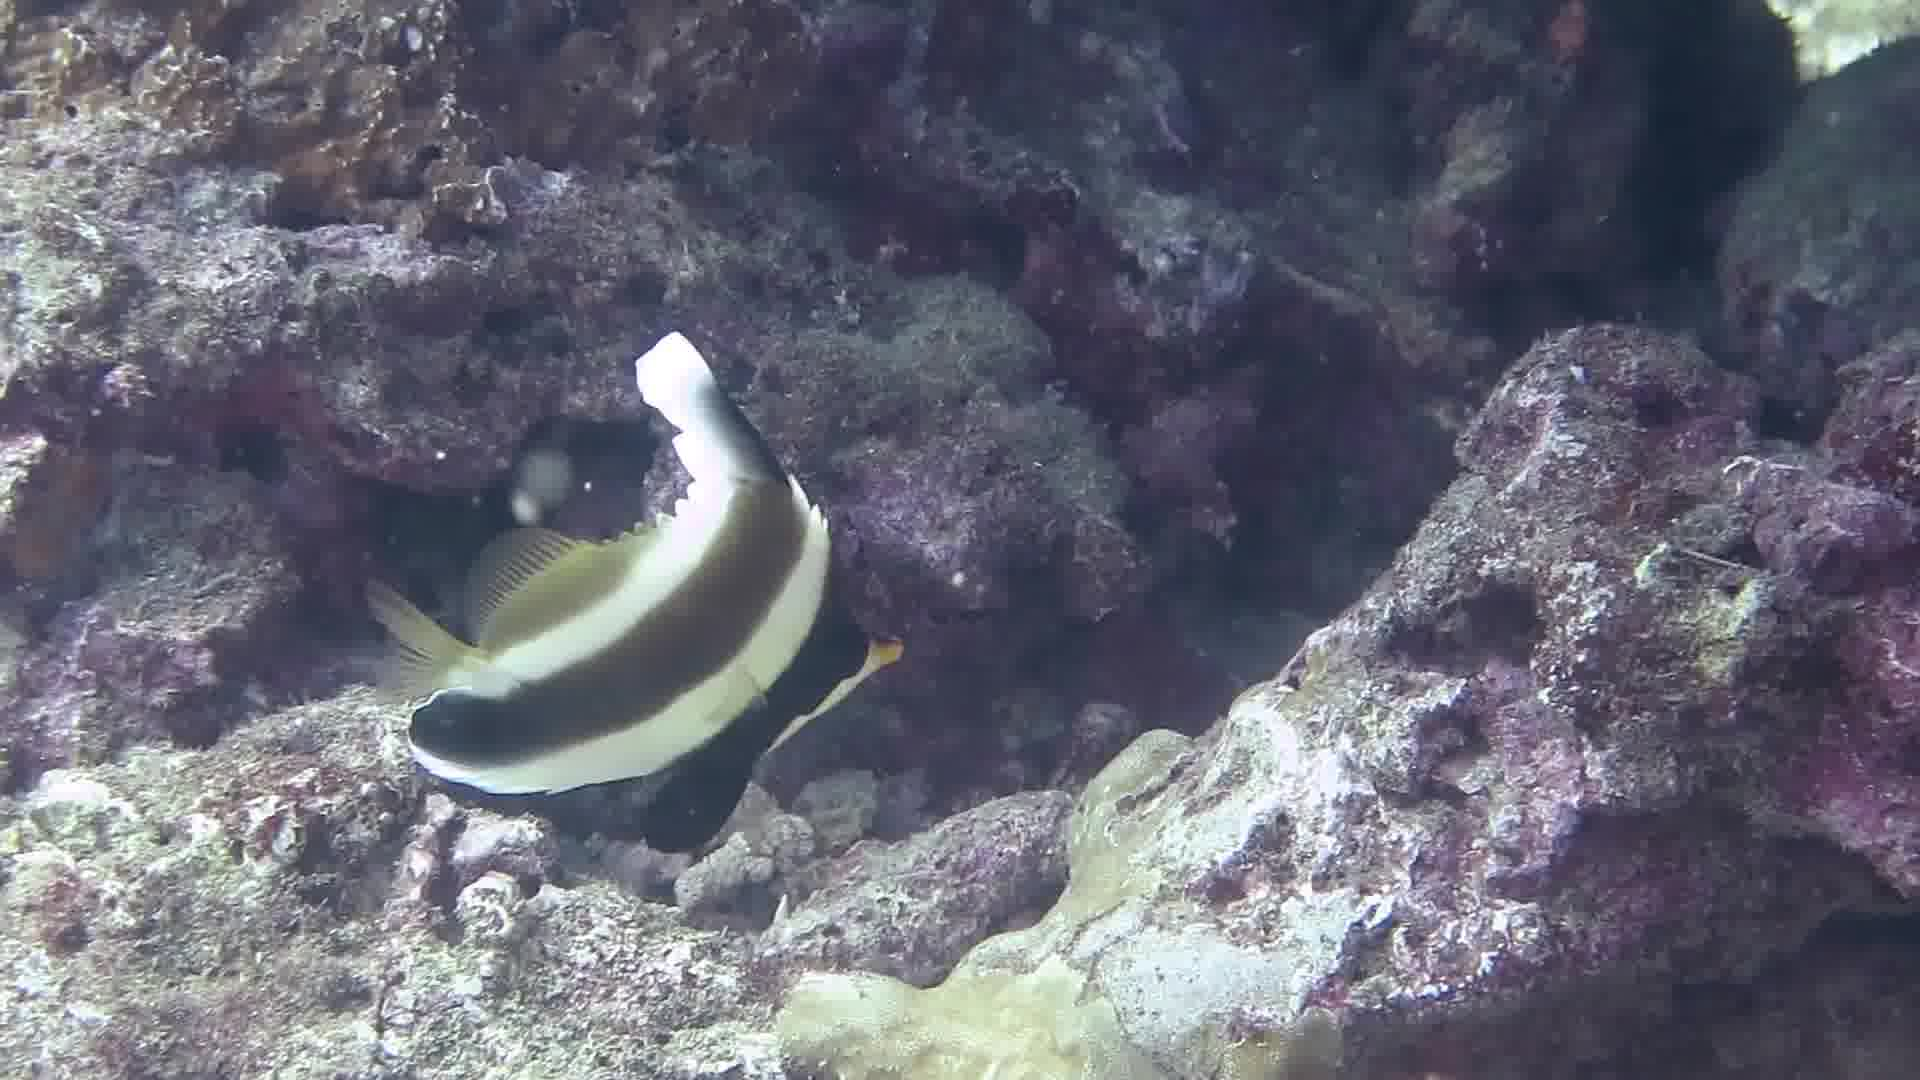Heniochus chrysostomus: (336, 290, 981, 880)
